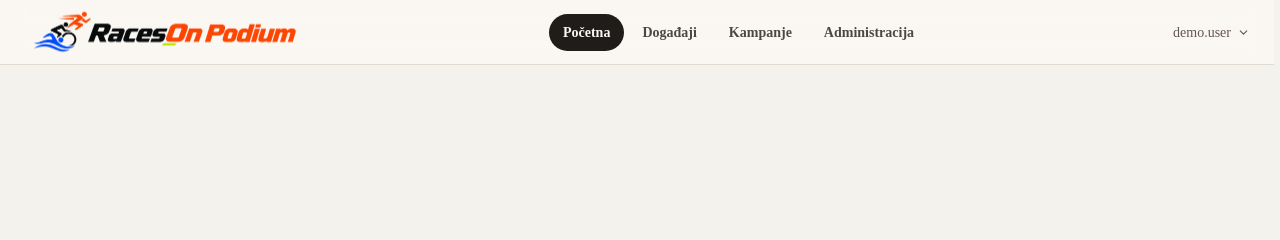
uses the same Croatian role and account labels
Click the heading named "Izbornik računa" at [1211, 32], box [1173,24,1250,40]
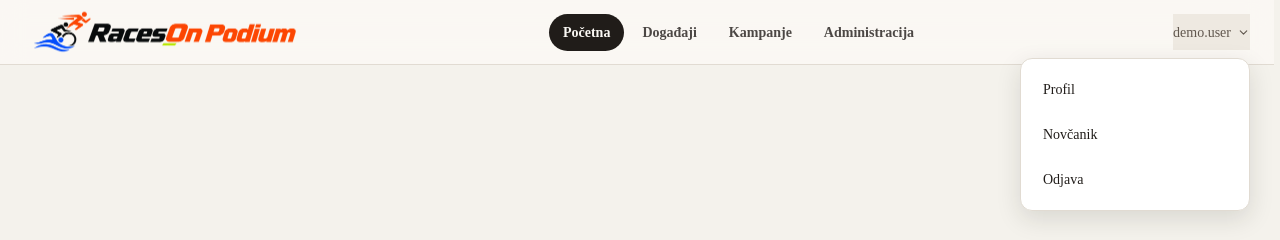
Expected: the button "Odjava" is shown, [1031,159,1239,200]
